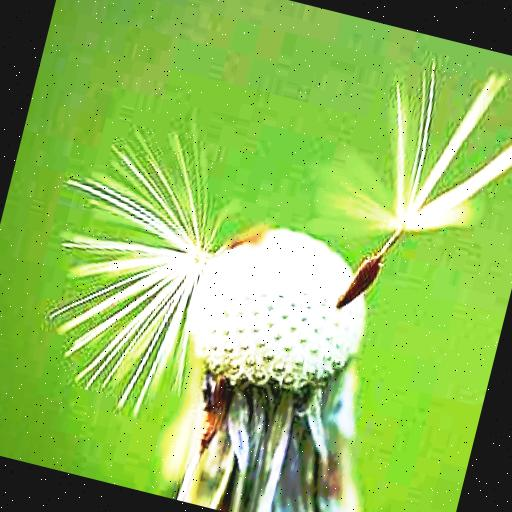dandelion: (26, 108, 241, 416), (363, 51, 512, 250)
